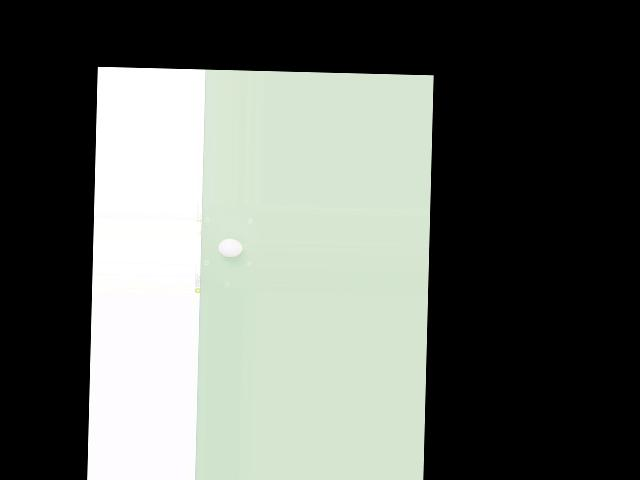egg: (218, 238, 242, 257)
